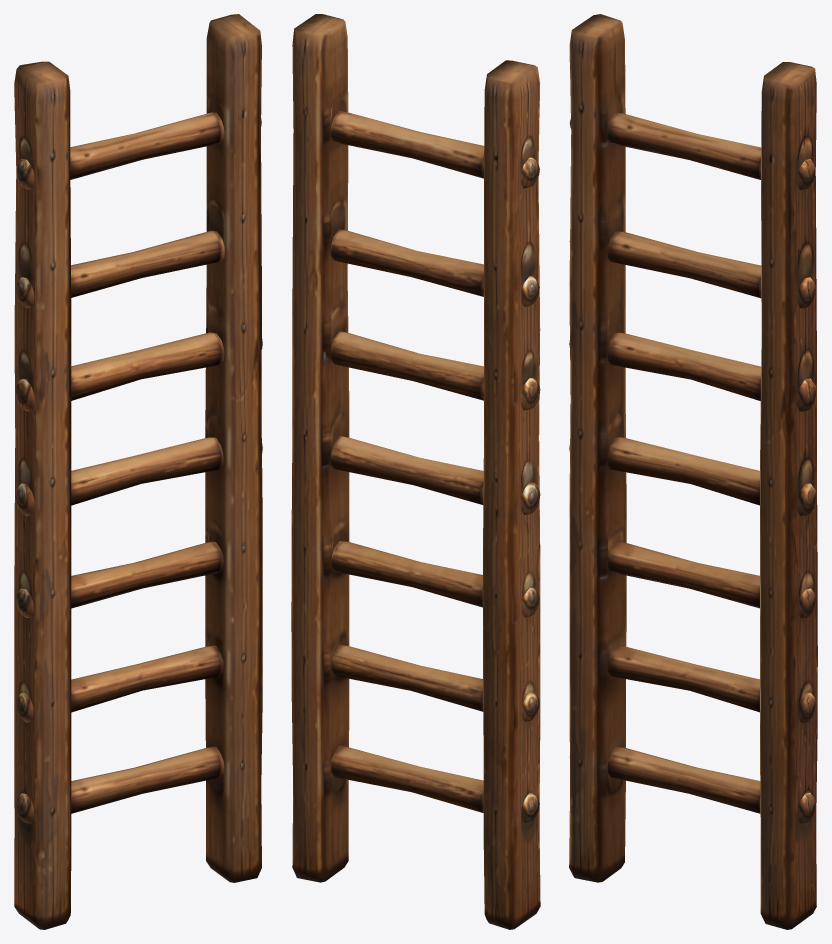
The model's file is ladder.fbx.
The picture shows the model from 3 angles, left to right: view 1: azimuth 30°, elevation 25°; view 2: azimuth 150°, elevation 25°; view 3: azimuth 330°, elevation 25°; orthographic projection.
Parts seen in each view (by area): view 1: tripo_node_1b3b8181.023; view 2: tripo_node_1b3b8181.023; view 3: tripo_node_1b3b8181.023.
Part boxes in pixels (x1,y1,x2,y2): tripo_node_1b3b8181.023: (14, 14, 262, 929); tripo_node_1b3b8181.023: (291, 14, 540, 929); tripo_node_1b3b8181.023: (569, 14, 817, 929).
Bounding box in the file's own units: 0.1747 × 0.5987 × 0.0376.
